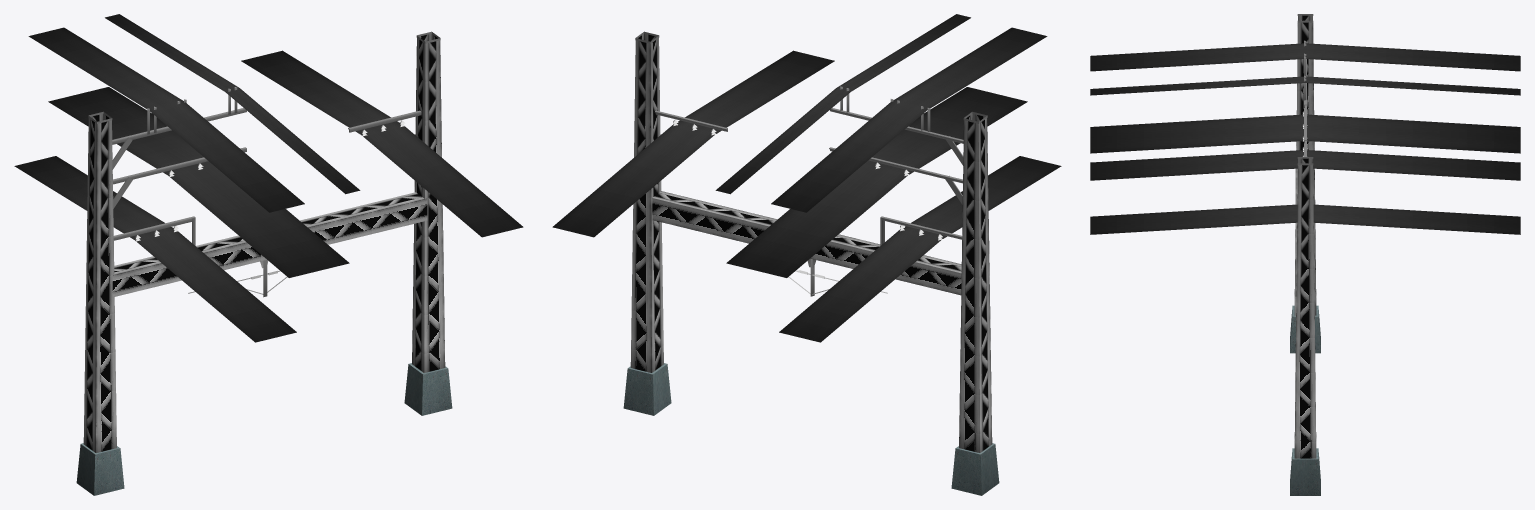
The model's file is KASENCHU00_OLD.glb.
3 views of the same model, side by side, from view 1: azimuth 30°, elevation 25°; view 2: azimuth 150°, elevation 25°; view 3: azimuth 270°, elevation 25° (orthographic). The views are drawn at different scales.
Visible parts, largest first — view 1: body; view 2: body; view 3: body.
Part boxes in pixels (box(x1,y1,x2,y2)): body: box(14, 14, 523, 495); body: box(552, 14, 1061, 495); body: box(1090, 14, 1520, 495).
Bounding box in the file's own units: 33.96 × 33.44 × 39.61.
Materials: 5 (5 with a texture image).
